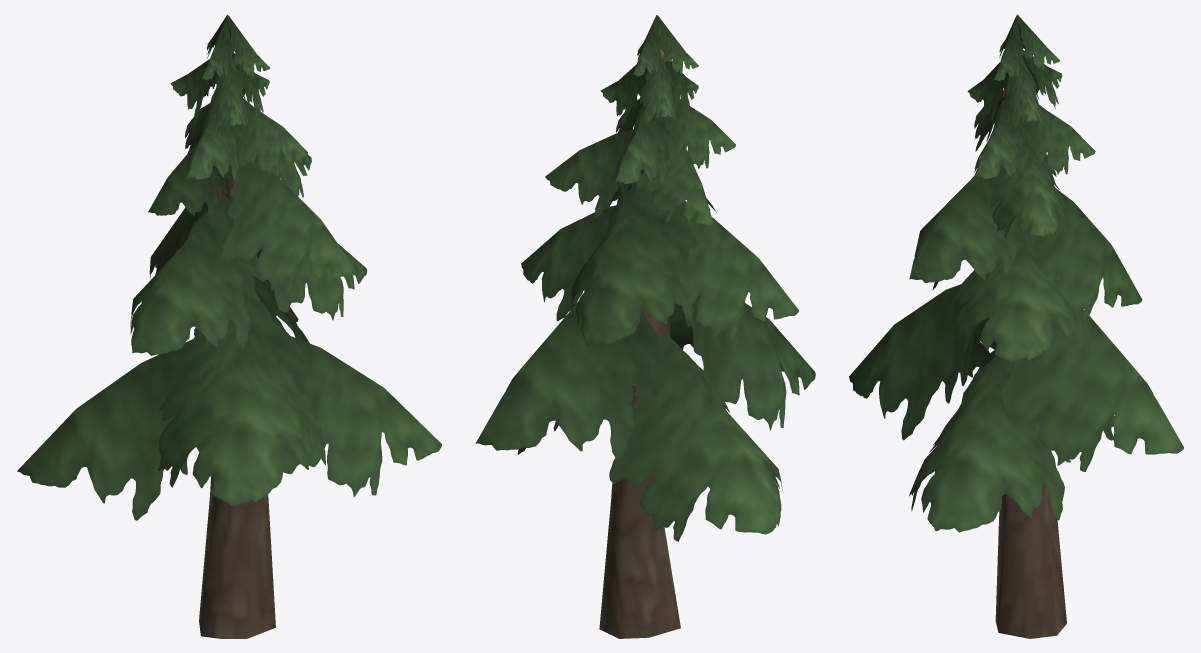
File: Tree_Pine_5.fbx
3 renders of one model, left to right at view 1: azimuth 30°, elevation 25°; view 2: azimuth 150°, elevation 25°; view 3: azimuth 270°, elevation 25°, orthographic. The views are drawn at different scales.
Visible parts, largest first — view 1: Tree_Pine_5; view 2: Tree_Pine_5; view 3: Tree_Pine_5.
Part boxes in pixels (bbox=[...]): Tree_Pine_5: bbox=[17, 15, 441, 638]; Tree_Pine_5: bbox=[475, 15, 815, 638]; Tree_Pine_5: bbox=[849, 14, 1183, 638].
Bounding box in the file's own units: 166 × 286 × 146.
Materials: 2 (2 with a texture image).
